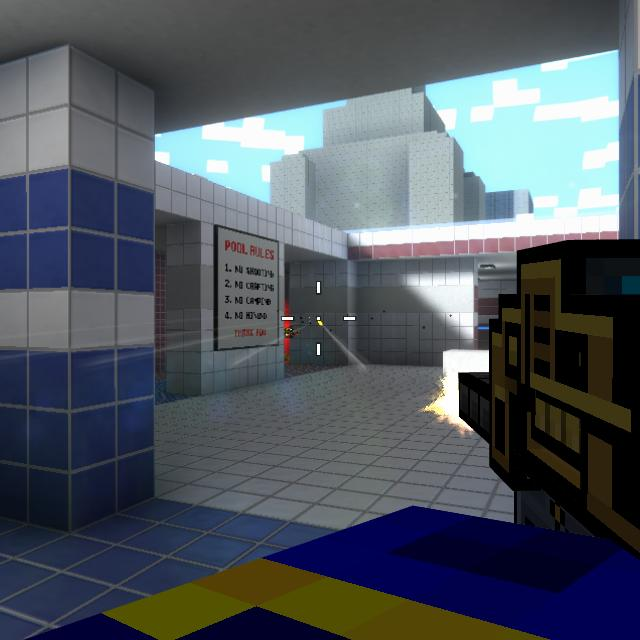Enemy: (284, 311, 288, 355)
